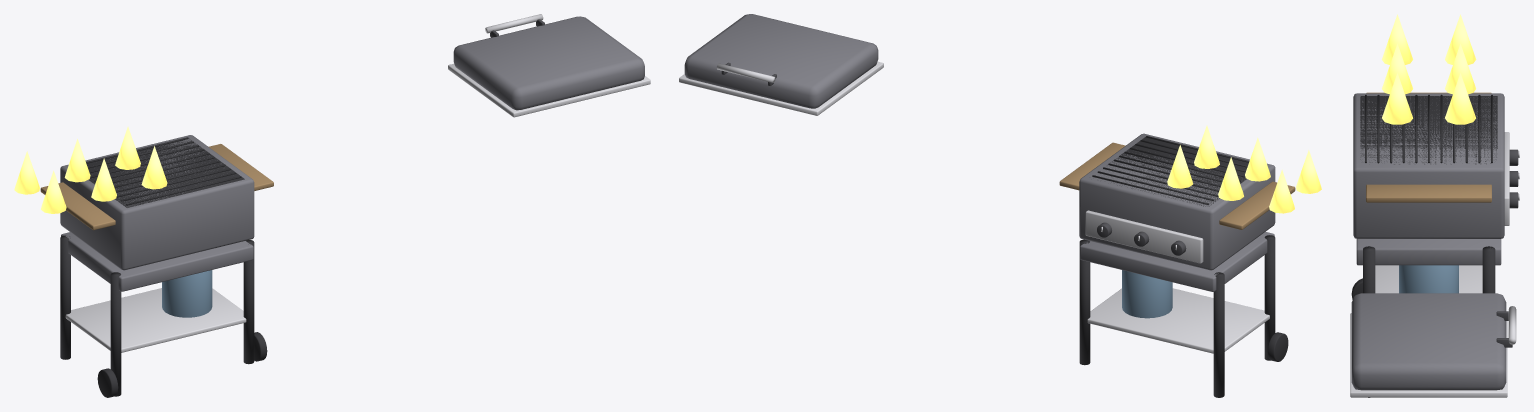
Rendered from gasgrill.glb.
3 views of the same model, side by side, from view 1: azimuth 30°, elevation 25°; view 2: azimuth 150°, elevation 25°; view 3: azimuth 270°, elevation 25° (orthographic). The views are drawn at different scales.
Parts seen in each view (by area): view 1: Gasgrill, Deckelmesh, Flamme.001, Flamme.004, Flamme, Flamme.002, Flamme.003, Flamme.005; view 2: Gasgrill, Deckelmesh, Flamme, Flamme.001, Flamme.004, Flamme.005, Flamme.002, Flamme.003; view 3: Gasgrill, Deckelmesh, Flamme.005, Flamme.004, Flamme.003, Flamme.001, Flamme, Flamme.002.
Boxes of the visible parts, bbox=[...] form: Gasgrill: bbox=[40, 135, 273, 397]; Deckelmesh: bbox=[448, 14, 650, 117]; Flamme.001: bbox=[14, 151, 39, 194]; Flamme.004: bbox=[141, 146, 167, 189]; Flamme: bbox=[41, 170, 66, 213]; Flamme.002: bbox=[91, 158, 116, 201]; Flamme.003: bbox=[64, 139, 90, 182]; Flamme.005: bbox=[115, 126, 140, 169]; Gasgrill: bbox=[1059, 133, 1295, 397]; Deckelmesh: bbox=[679, 14, 883, 115]; Flamme: bbox=[1296, 150, 1321, 193]; Flamme.001: bbox=[1269, 169, 1294, 213]; Flamme.004: bbox=[1194, 125, 1219, 168]; Flamme.005: bbox=[1167, 145, 1192, 188]; Flamme.002: bbox=[1245, 137, 1270, 181]; Flamme.003: bbox=[1218, 157, 1243, 200]; Gasgrill: bbox=[1351, 92, 1519, 397]; Deckelmesh: bbox=[1350, 293, 1516, 397]; Flamme.005: bbox=[1445, 73, 1475, 124]; Flamme.004: bbox=[1382, 73, 1412, 124]; Flamme.003: bbox=[1445, 43, 1475, 94]; Flamme.001: bbox=[1445, 14, 1476, 64]; Flamme: bbox=[1382, 14, 1412, 64]; Flamme.002: bbox=[1382, 43, 1412, 94].
Size of the model in its own units: 2.57 by 0.95 by 0.538.
